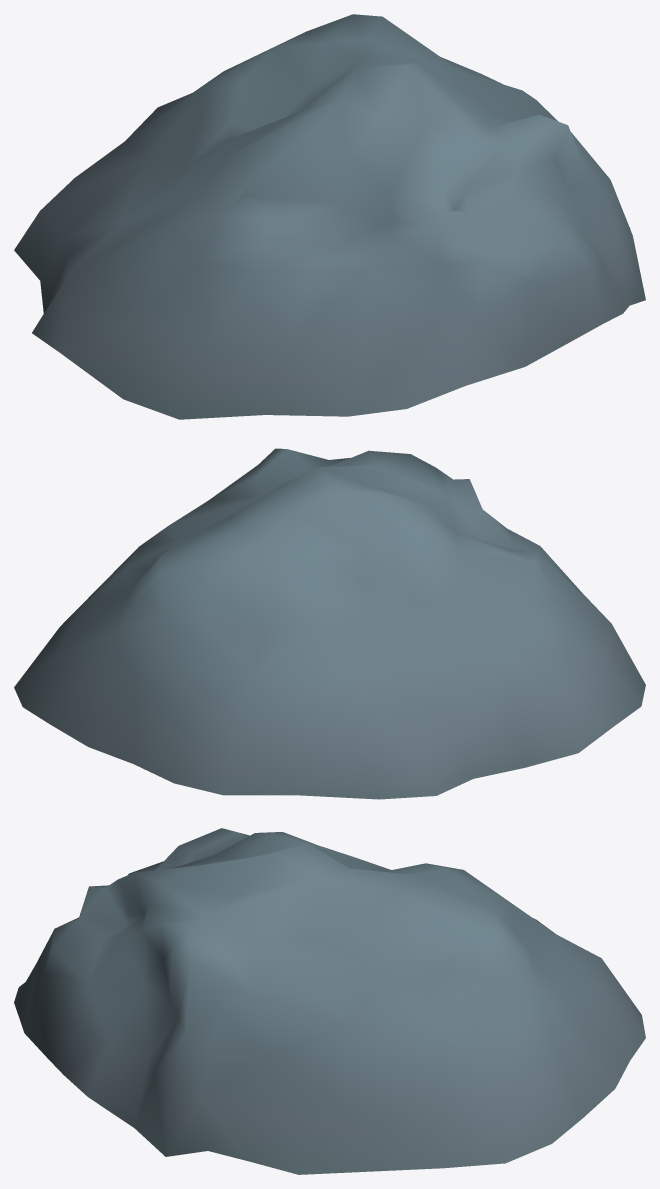
File: HillSnowy_2.fbx
3 renders of one model, top to bottom at view 1: azimuth 30°, elevation 25°; view 2: azimuth 150°, elevation 25°; view 3: azimuth 270°, elevation 25°, orthographic. The views are drawn at different scales.
Parts seen in each view (by area): view 1: HillSnowy_2; view 2: HillSnowy_2; view 3: HillSnowy_2.
Part boxes in pixels (x1=…): HillSnowy_2: x1=14, y1=14, x2=645, y2=419; HillSnowy_2: x1=14, y1=448, x2=645, y2=799; HillSnowy_2: x1=14, y1=828, x2=645, y2=1174.
Bounding box in the file's own units: 540 × 210 × 543.
